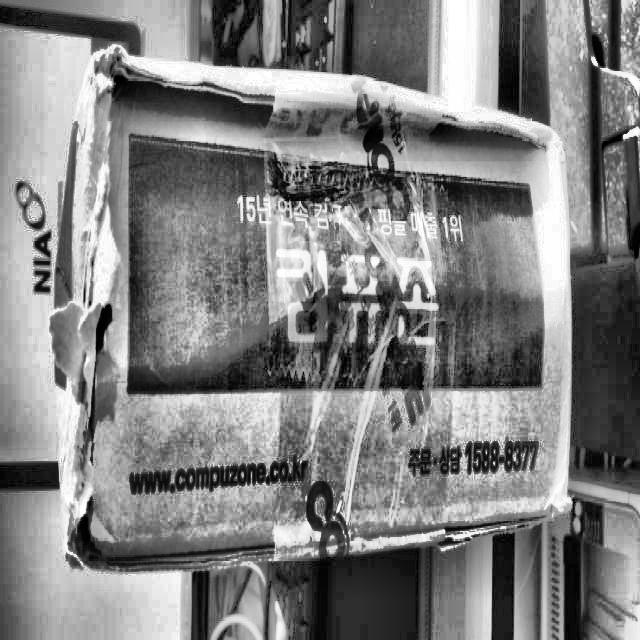box: (42, 33, 584, 587)
hole: (68, 304, 122, 566)
